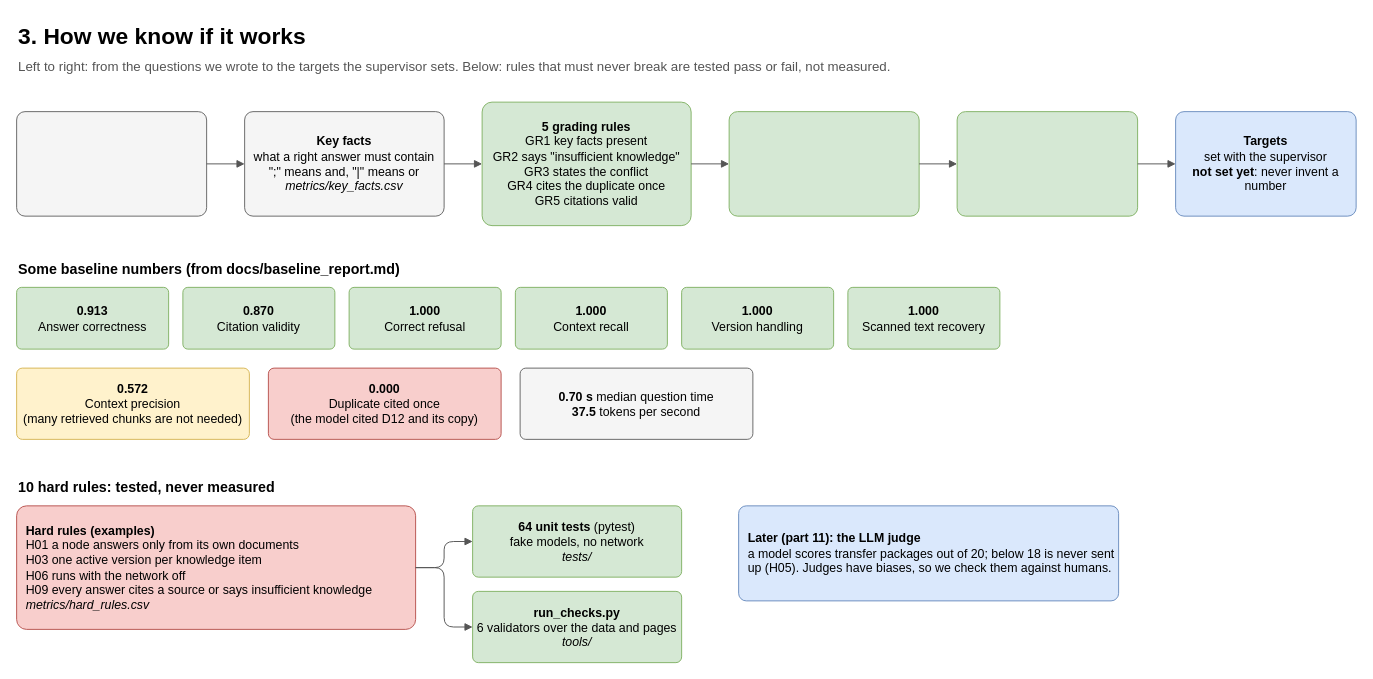
The diagram is 1373 pixels wide and 679 high, and some of its shapes have lost their labels. The centre of each missing label's shape, as x and y in pixels:
"28 metrics in 8 objectives (O1 to O8) 16 have a baseline now metrics/metrics.csv" goes at (823,163).
"Answer key 26 questions, each with its node and the right sources case_study/" goes at (111,163).
"Baseline (part 2) the first measured value of each metric" goes at (1047,163).
